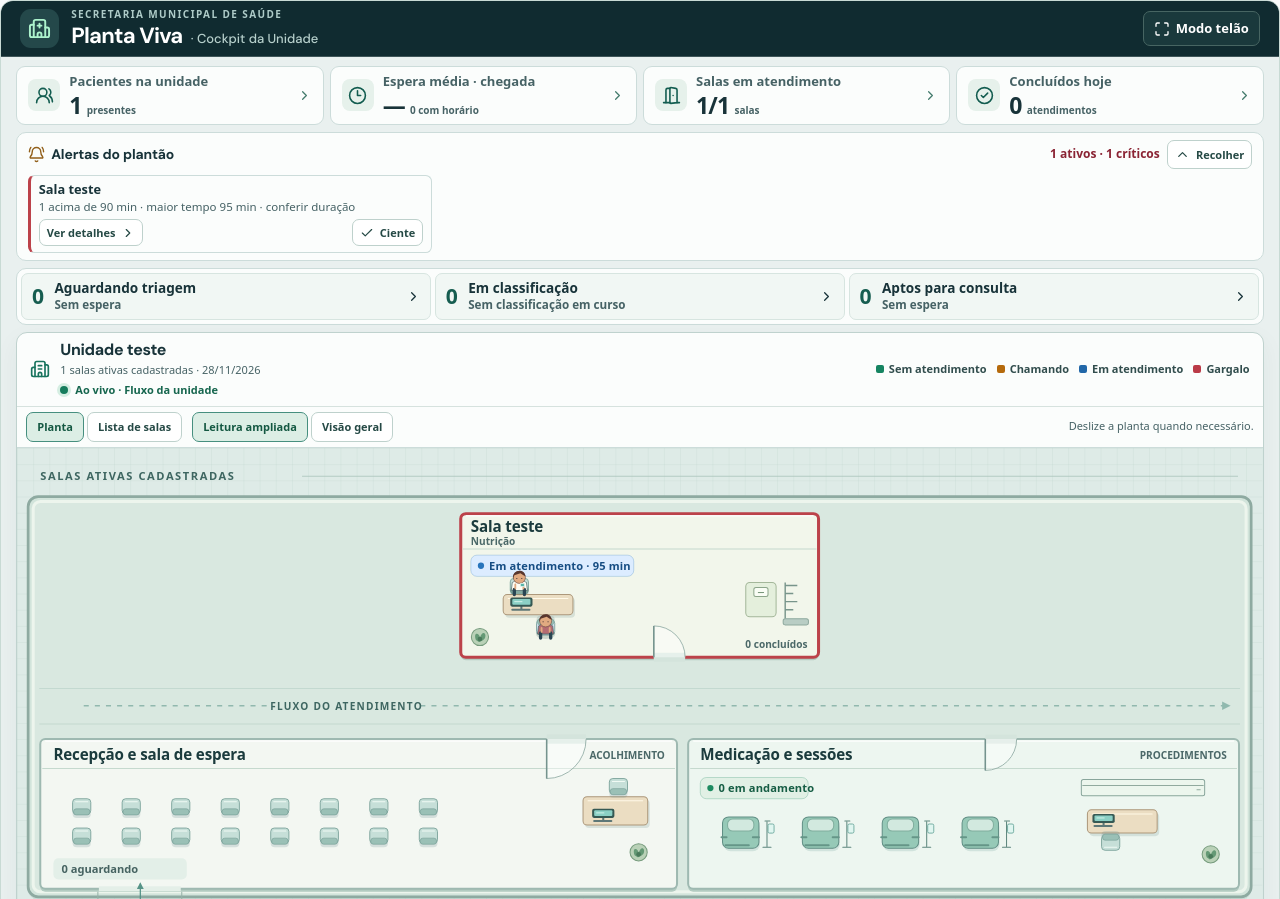
Test: recolhe e expande os alertas sem perder contagem, detalhes ou ciência
This screenshot has width=1280, height=899.
Click the button with aria-label "Ciente de Sala teste" at (388, 232), box [352,219,423,246]
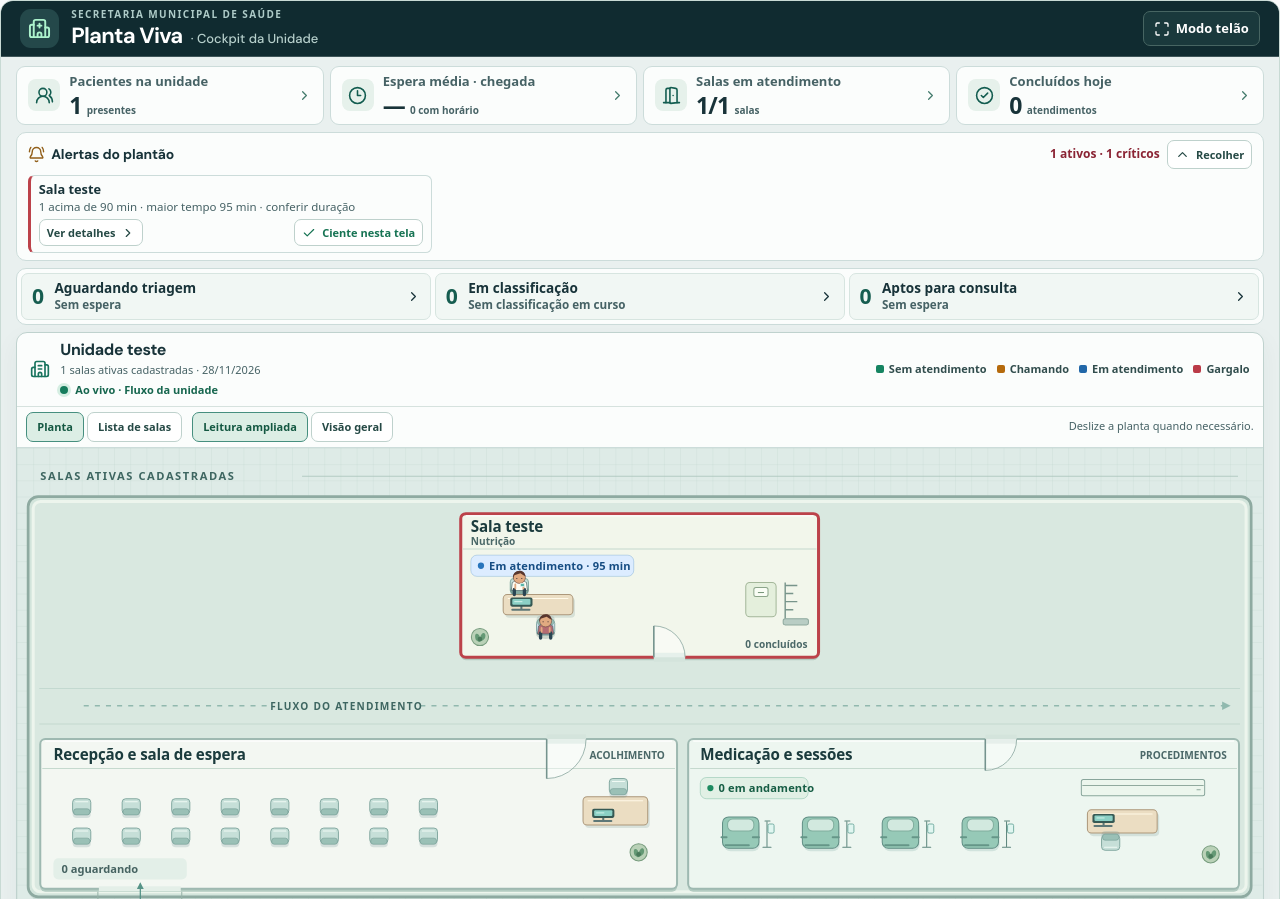
Click the button "Recolher" at (1210, 154), box [1167,140,1252,169]
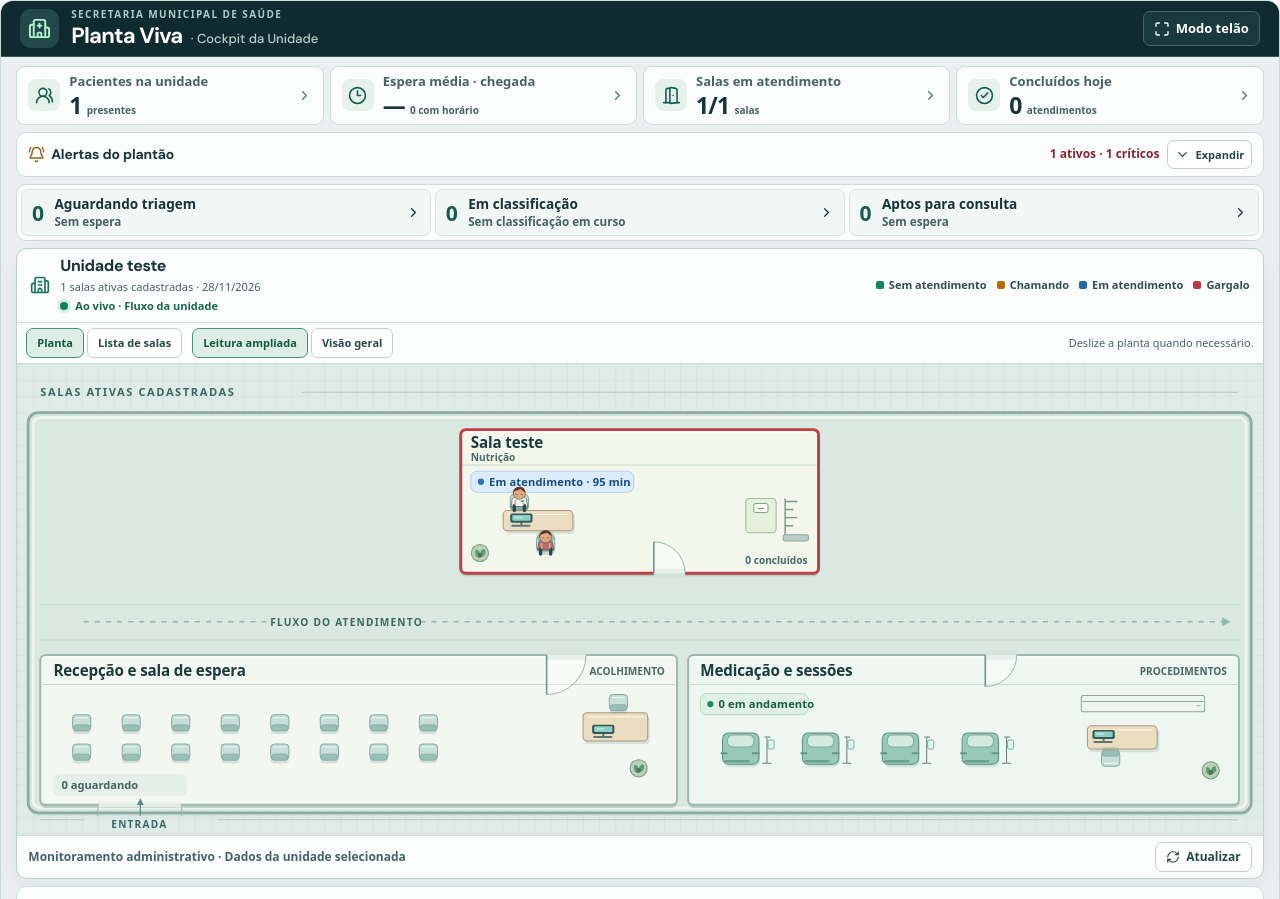
Expected: the text "1 ativos · 1 críticos" is shown, [1050,145,1159,163]
Expected: the button "Expandir" is collapsed
Click the button "Expandir" at (1209, 154), box [1167,140,1252,169]
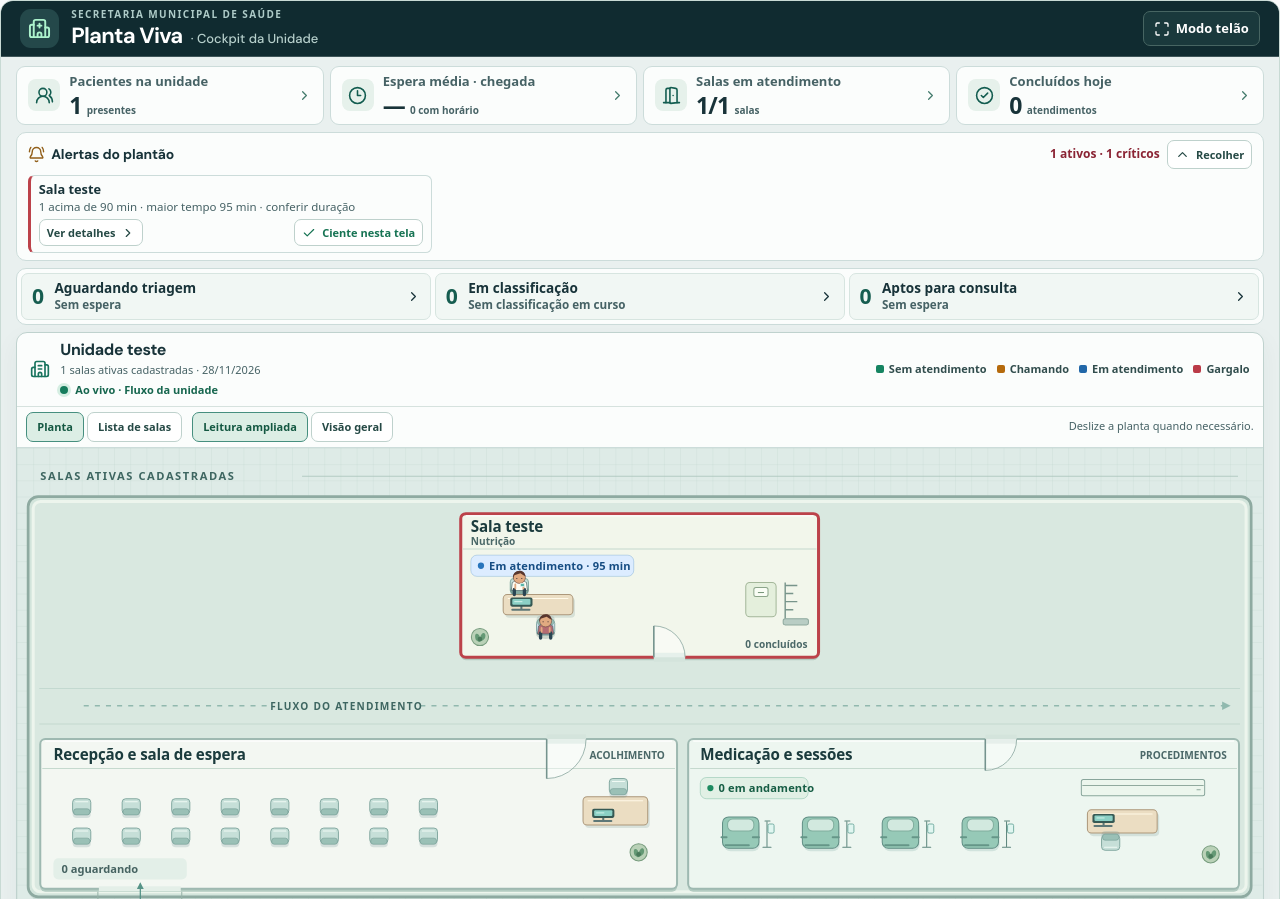
Expected: the button with aria-label "Ver detalhes de Sala teste" is shown, [39,219,144,246]
